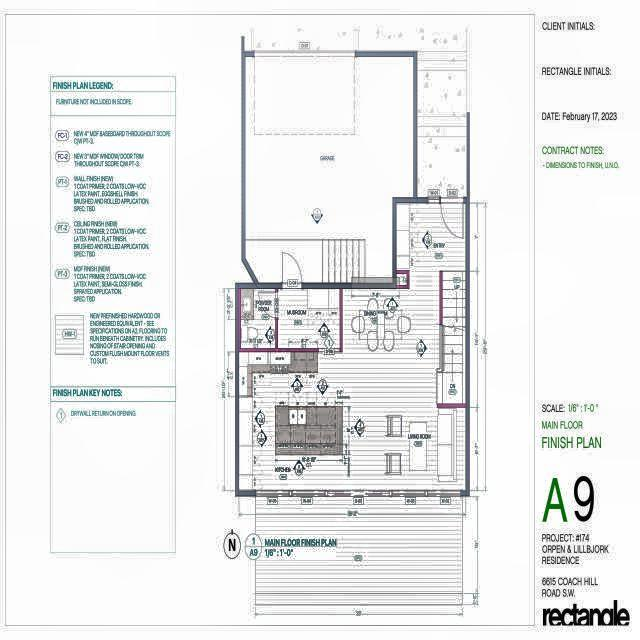room: (278, 289, 340, 348), (417, 137, 467, 197), (241, 289, 275, 348)
